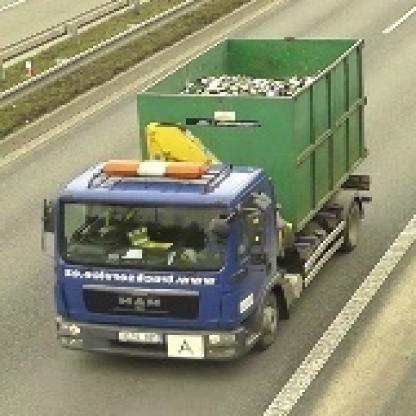truck: (43, 34, 371, 364)
